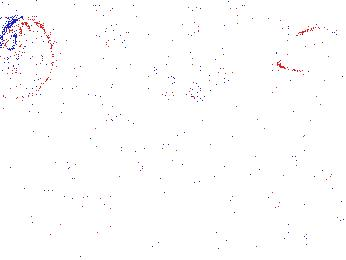moon jellyfish: (96, 1, 206, 85), (174, 3, 249, 84), (1, 18, 55, 100), (300, 112, 346, 193), (275, 26, 346, 73)
